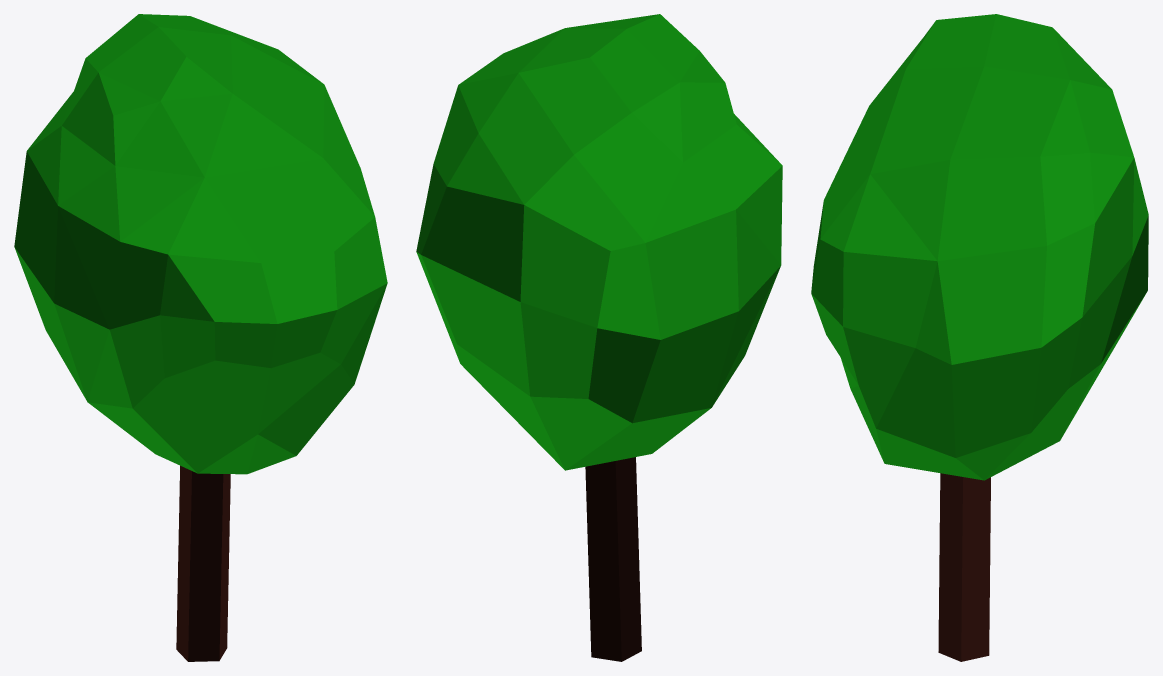
Rendered from Tree3.FBX.
3 views of the same model, side by side, from view 1: azimuth 30°, elevation 25°; view 2: azimuth 150°, elevation 25°; view 3: azimuth 270°, elevation 25° (orthographic). The views are drawn at different scales.
Visible parts, largest first — view 1: Tree3_b, Tree3_a; view 2: Tree3_b, Tree3_a; view 3: Tree3_b, Tree3_a.
Part boxes in pixels (<box>): Tree3_b: <box>14,14,387,474</box>; Tree3_a: <box>176,465,230,661</box>; Tree3_b: <box>416,14,782,470</box>; Tree3_a: <box>585,457,641,661</box>; Tree3_b: <box>811,14,1148,480</box>; Tree3_a: <box>938,473,990,661</box>.
Bounding box in the file's own units: 7253 × 14366 × 7055.
